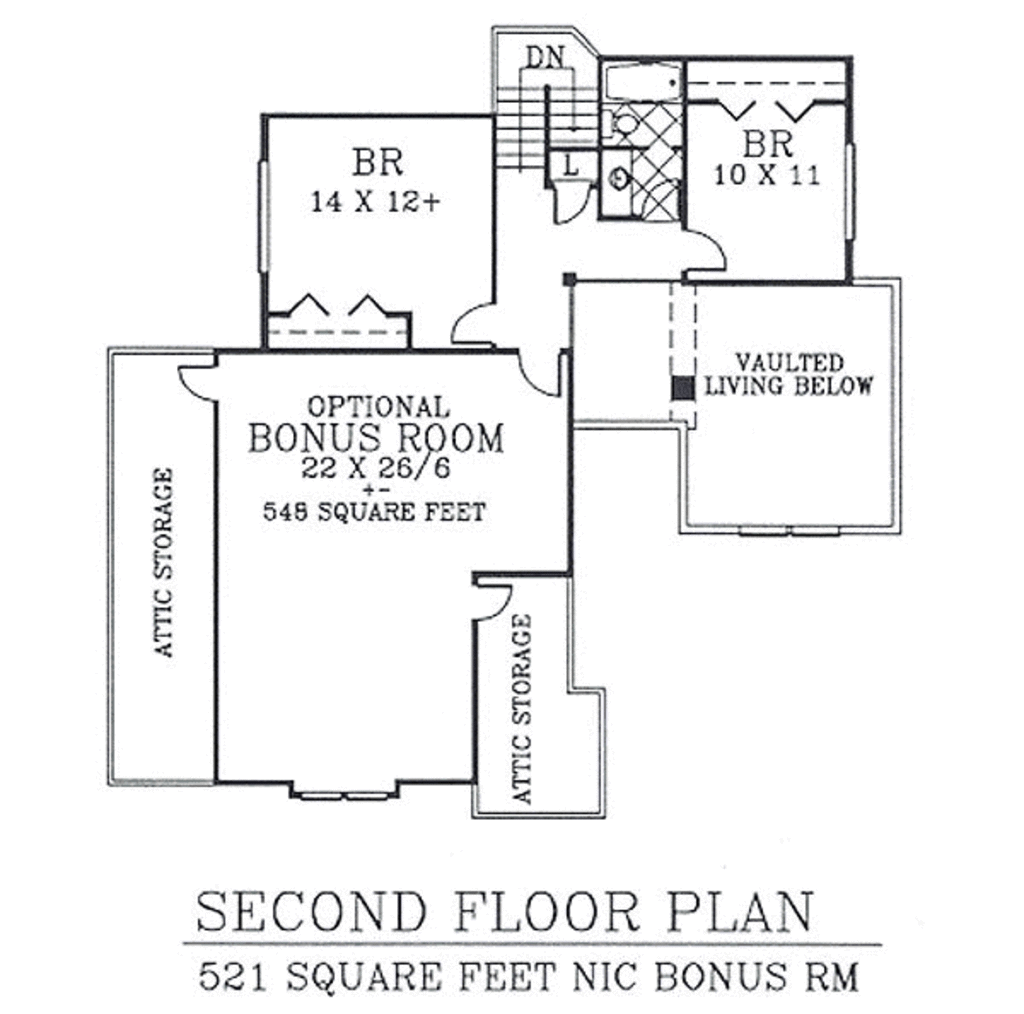door: (175, 354, 229, 409), (509, 348, 564, 401), (681, 218, 732, 273), (439, 304, 498, 351), (468, 578, 514, 623), (556, 182, 593, 225)
large_sink: (604, 107, 656, 148)
small_sink: (601, 152, 640, 215)
stairs: (501, 36, 598, 179)
tub: (604, 56, 686, 106)
window: (301, 782, 384, 803), (846, 146, 856, 245), (738, 525, 795, 542), (795, 518, 837, 540)
